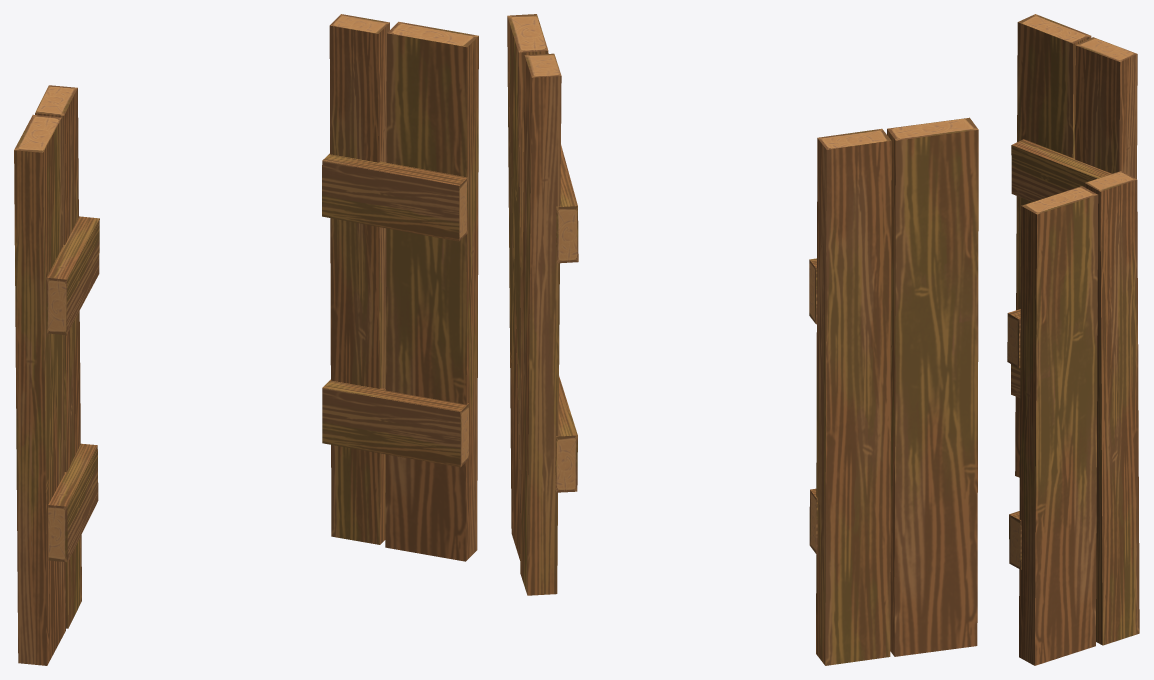
File: WindowShutters_Thin_Flat_Open.gltf
3 renders of one model, left to right at view 1: azimuth 30°, elevation 25°; view 2: azimuth 150°, elevation 25°; view 3: azimuth 270°, elevation 25°, orthographic. The views are drawn at different scales.
Visible parts, largest first — view 1: WindowShutters_Thin_Flat_Open; view 2: WindowShutters_Thin_Flat_Open; view 3: WindowShutters_Thin_Flat_Open.
Boxes of the visible parts, box(x1,y1,x2,y2) form: WindowShutters_Thin_Flat_Open: box(14, 14, 478, 665); WindowShutters_Thin_Flat_Open: box(507, 14, 978, 665); WindowShutters_Thin_Flat_Open: box(1007, 14, 1139, 665).
Size of the model in its own units: 1.35 by 1.42 by 0.3771.
1 material, 1 textured.
